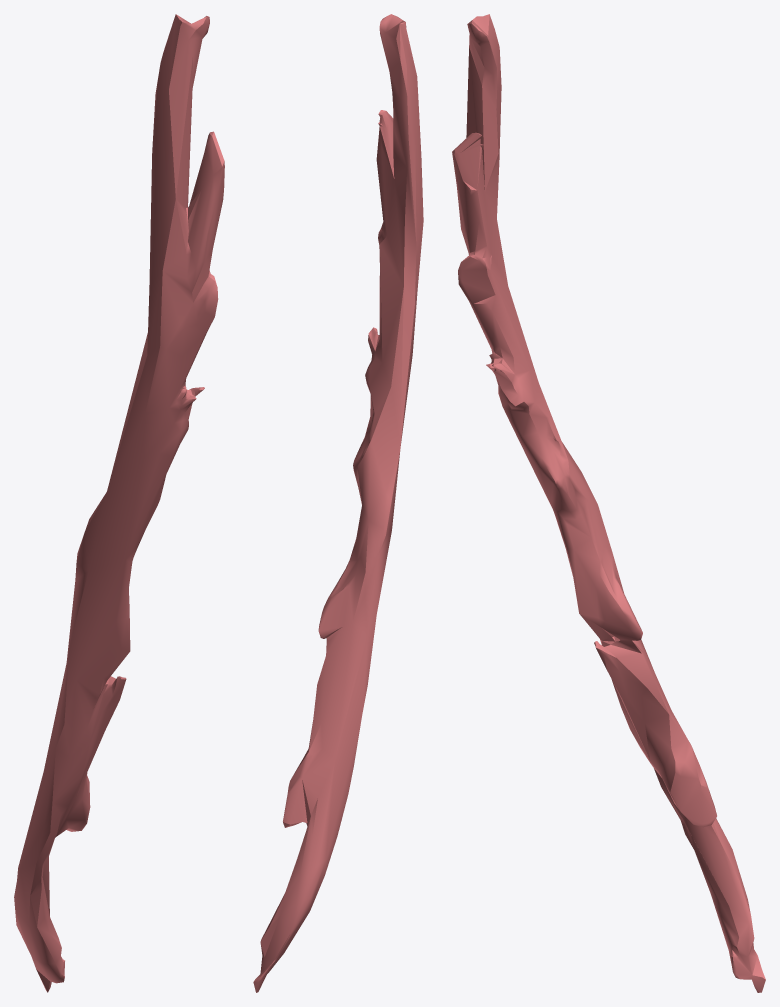
3 renders of one model, left to right at view 1: azimuth 30°, elevation 25°; view 2: azimuth 150°, elevation 25°; view 3: azimuth 270°, elevation 25°, orthographic. The views are drawn at different scales.
Visible parts, largest first — view 1: FJ1543; view 2: FJ1543; view 3: FJ1543.
Boxes of the visible parts, x1,y1,x2,y2 form: FJ1543: (14, 14, 224, 992); FJ1543: (253, 14, 423, 992); FJ1543: (452, 14, 765, 992).
Size of the model in its own units: 0.00784 by 0.1056 by 0.031.
